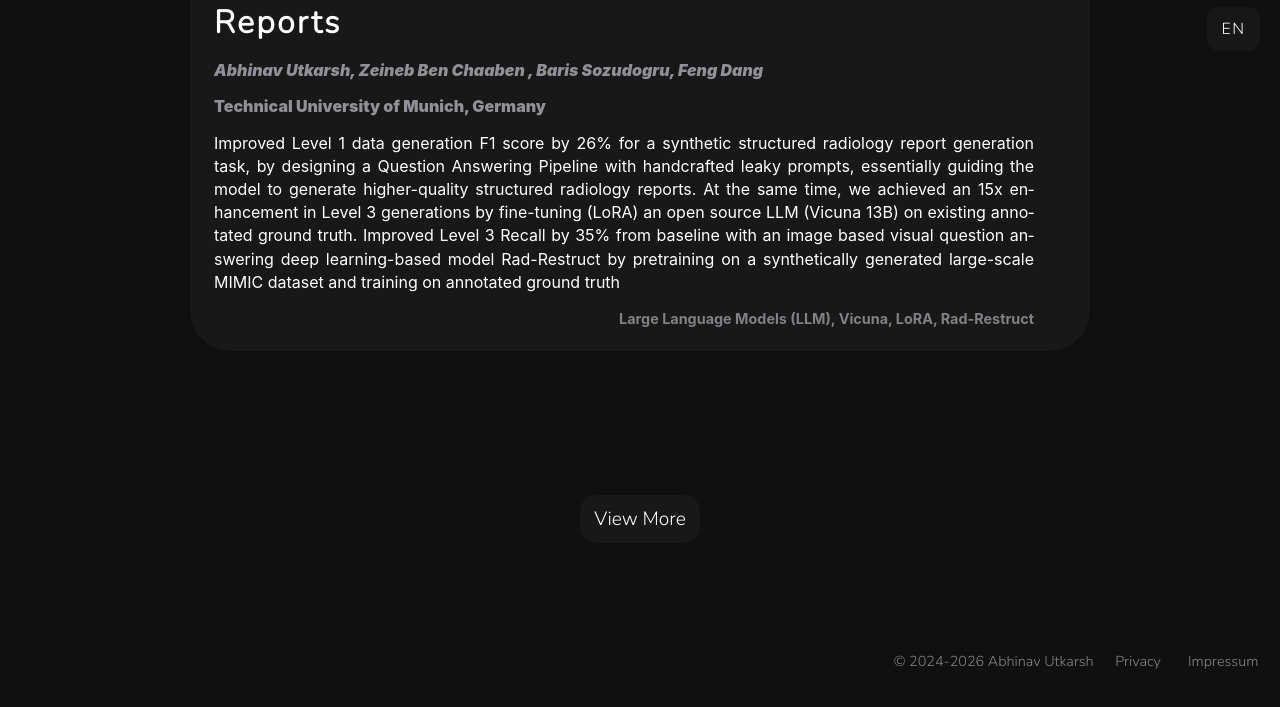
it: Impressum reached from inside the site offers a way back
(page scrolled)
Click the link "Impressum": x=1223, y=661 [1188, 651, 1258, 671]
Wait 400 ms
(page scrolled)
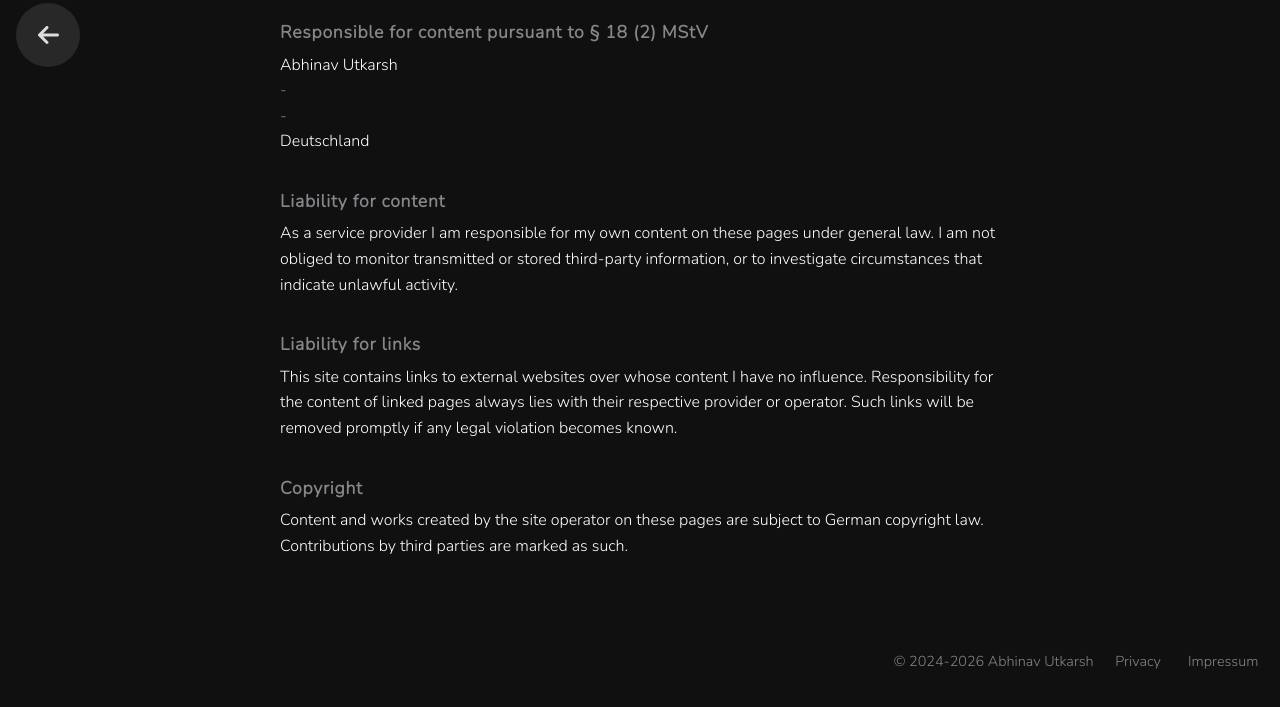
Expected: the link named "Back" is shown, [16, 3, 80, 67]
